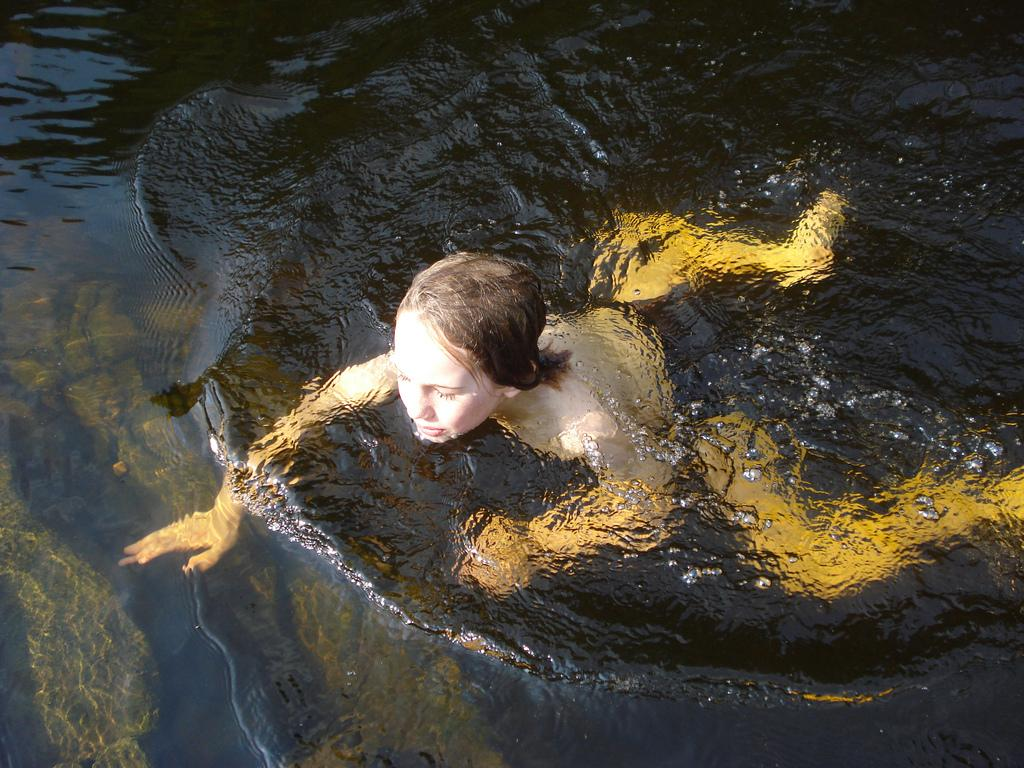face: (394, 324, 486, 446)
